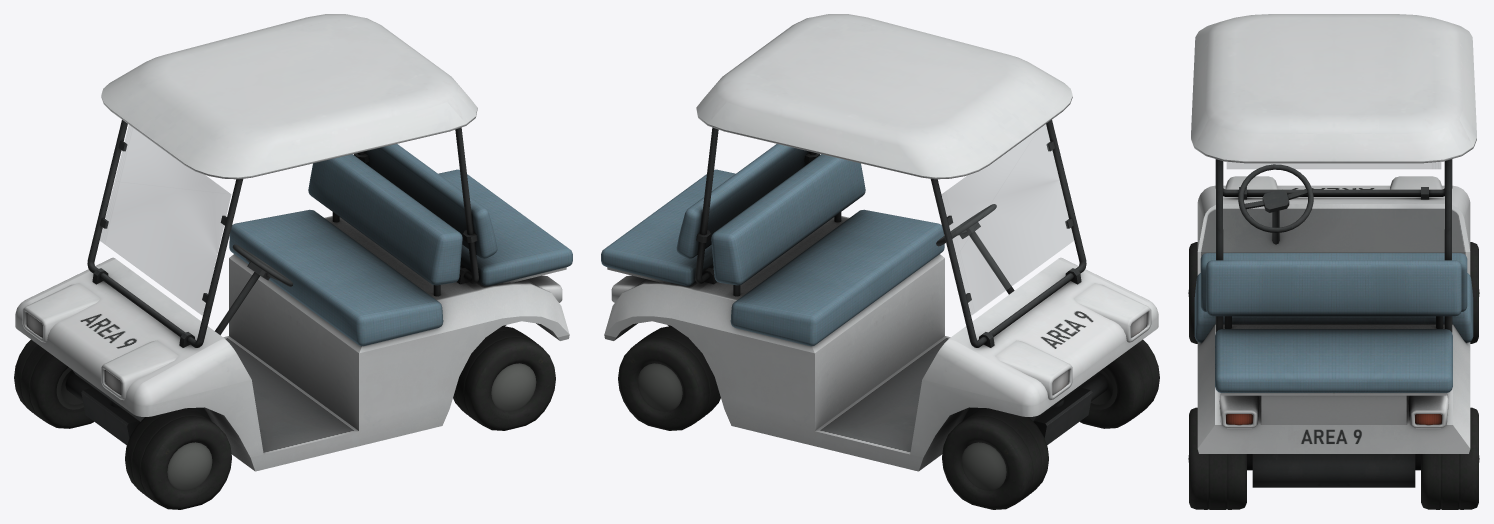
The model's file is golf_cart.glb.
The picture shows the model from 3 angles, left to right: view 1: azimuth 30°, elevation 25°; view 2: azimuth 150°, elevation 25°; view 3: azimuth 270°, elevation 25°; orthographic projection. The views are drawn at different scales.
Bounding box in the file's own units: 2.4 × 1.77 × 1.3.
Materials: 2 (2 with a texture image).
